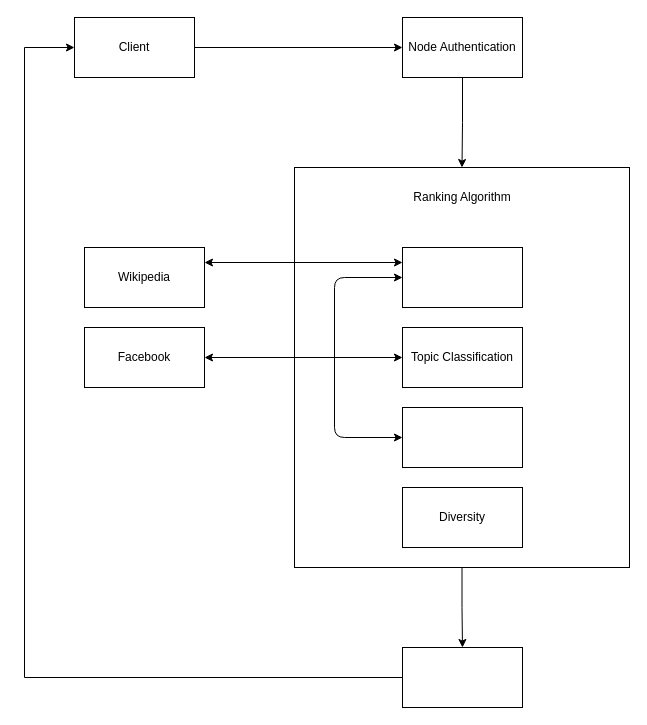
This 647x725 diagram has some shape labels left out. The shapes that lost their labels are listed below. From the top down, each one's centre as x and y in pixels, then its label:
At (462,277): "Freshness".
At (462,437): "Connections".
At (462,677): "Ranked Feed".
